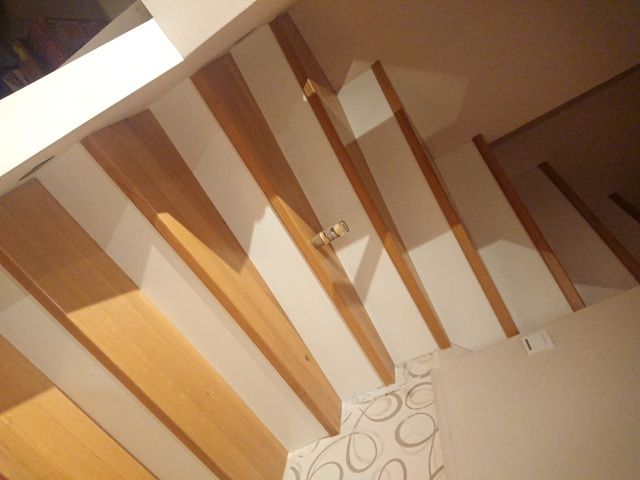Kotanyi Garlic Granules 70g: (310, 219, 351, 251)
